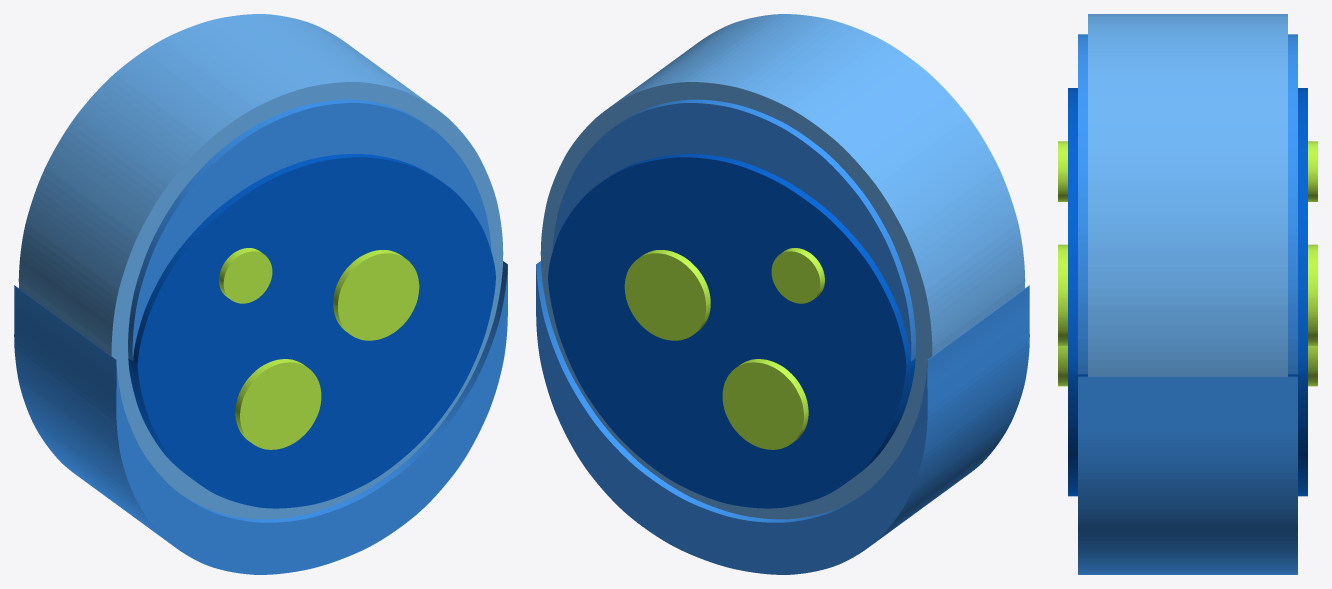
3 views of the same model, side by side, from view 1: azimuth 30°, elevation 25°; view 2: azimuth 150°, elevation 25°; view 3: azimuth 270°, elevation 25° (orthographic). The views are drawn at different scales.
Visible parts, largest first — view 1: U+1F9EB_layer02_obj00, U+1F9EB_layer00_obj00, U+1F9EB_layer01_obj00, U+1F9EB_layer03_obj00; view 2: U+1F9EB_layer02_obj00, U+1F9EB_layer00_obj00, U+1F9EB_layer01_obj00, U+1F9EB_layer03_obj00; view 3: U+1F9EB_layer00_obj00, U+1F9EB_layer01_obj00, U+1F9EB_layer02_obj00, U+1F9EB_layer03_obj00.
Part boxes in pixels (x1=…): U+1F9EB_layer02_obj00: x1=128, y1=154, x2=495, y2=508; U+1F9EB_layer00_obj00: x1=18, y1=14, x2=503, y2=519; U+1F9EB_layer01_obj00: x1=14, y1=99, x2=507, y2=574; U+1F9EB_layer03_obj00: x1=219, y1=248, x2=419, y2=449; U+1F9EB_layer02_obj00: x1=548, y1=154, x2=915, y2=508; U+1F9EB_layer00_obj00: x1=540, y1=14, x2=1025, y2=519; U+1F9EB_layer01_obj00: x1=536, y1=99, x2=1029, y2=574; U+1F9EB_layer03_obj00: x1=624, y1=248, x2=824, y2=449; U+1F9EB_layer00_obj00: x1=1088, y1=14, x2=1287, y2=376; U+1F9EB_layer01_obj00: x1=1078, y1=34, x2=1297, y2=574; U+1F9EB_layer02_obj00: x1=1068, y1=88, x2=1307, y2=496; U+1F9EB_layer03_obj00: x1=1058, y1=141, x2=1317, y2=386.
Size of the model in its own units: 0.4868 by 0.5677 by 0.26.
